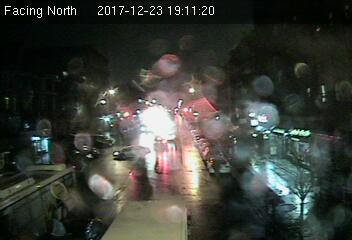car: (208, 155, 230, 176)
